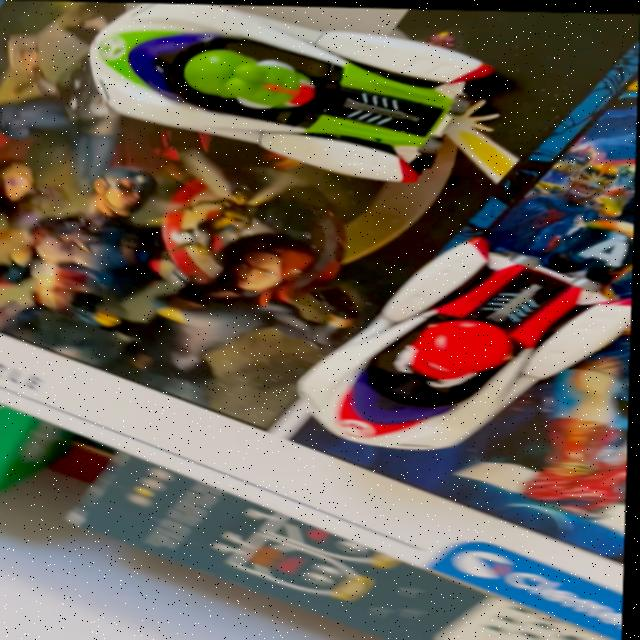mario: (272, 220, 633, 460)
yoshi: (57, 2, 531, 198)
